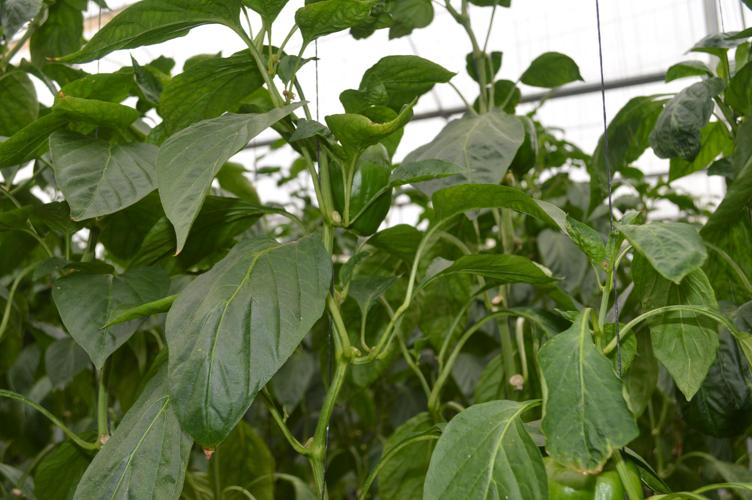BellPepper: (319, 135, 415, 242)
